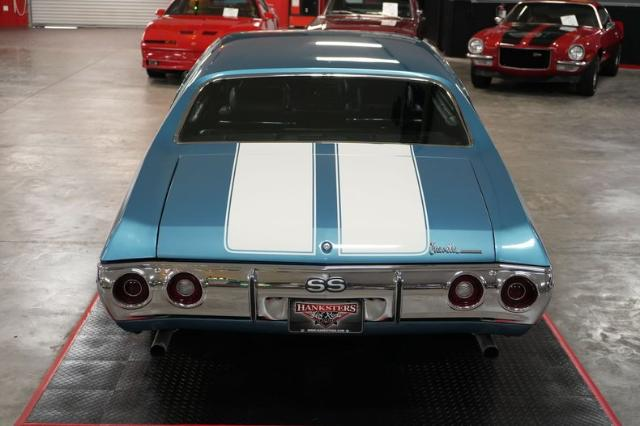chevelle-1972: (96, 30, 553, 338)
